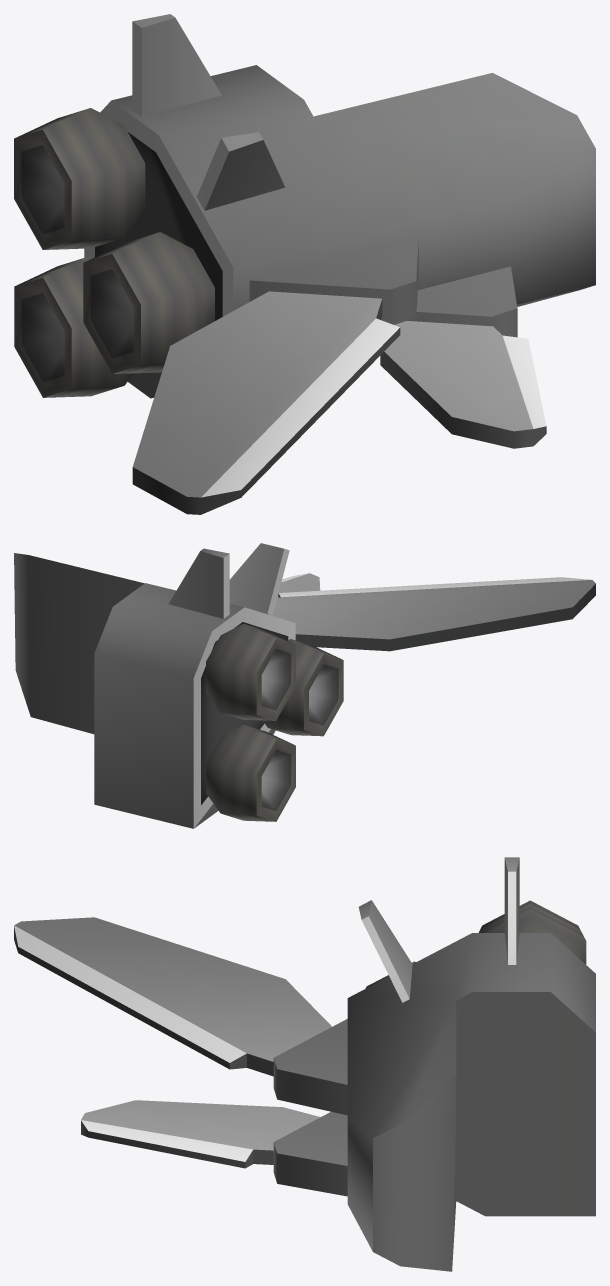
File: Jet2R.fbx
3 views of the same model, one above another, from view 1: azimuth 30°, elevation 25°; view 2: azimuth 150°, elevation 25°; view 3: azimuth 270°, elevation 25° (orthographic). The views are drawn at different scales.
Parts seen in each view (by area): view 1: Jet2R.0, Jet2R.005, Jet2R.002, Jet2R.006, Jet2R.001, Jet2R.004, Jet2R.003; view 2: Jet2R.0, Jet2R.005, Jet2R.002, Jet2R.003, Jet2R.004, Jet2R.001, Jet2R.006; view 3: Jet2R.0, Jet2R.005, Jet2R.006, Jet2R.004, Jet2R.002.
Boxes of the visible parts, left/top/right/bottom form: Jet2R.0: left=84, top=65, right=595, bottom=398; Jet2R.005: left=132, top=291, right=400, bottom=514; Jet2R.002: left=14, top=108, right=145, bottom=249; Jet2R.006: left=380, top=321, right=546, bottom=448; Jet2R.001: left=83, top=232, right=214, bottom=373; Jet2R.004: left=132, top=14, right=285, bottom=210; Jet2R.003: left=14, top=256, right=133, bottom=397; Jet2R.0: left=14, top=553, right=295, bottom=828; Jet2R.005: left=268, top=577, right=595, bottom=651; Jet2R.002: left=206, top=623, right=295, bottom=720; Jet2R.003: left=206, top=724, right=295, bottom=821; Jet2R.004: left=168, top=543, right=289, bottom=618; Jet2R.001: left=263, top=639, right=343, bottom=736; Jet2R.006: left=277, top=573, right=320, bottom=597; Jet2R.0: left=273, top=933, right=595, bottom=1271; Jet2R.005: left=14, top=917, right=331, bottom=1076; Jet2R.006: left=81, top=1100, right=320, bottom=1168; Jet2R.004: left=358, top=857, right=519, bottom=1002; Jet2R.002: left=478, top=900, right=586, bottom=964.
Bounding box in the file's own units: 2.17 × 1.22 × 2.08.
